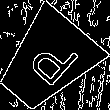P_SW: (15, 31, 78, 93)
